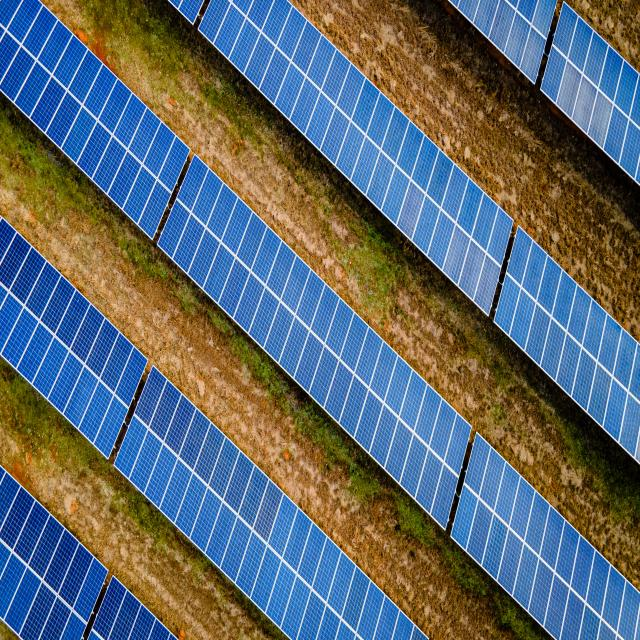clean-solar-panel: (0, 0, 640, 640), (200, 9, 640, 449), (0, 220, 425, 640), (0, 222, 420, 638), (0, 469, 155, 638), (589, 91, 611, 147)
